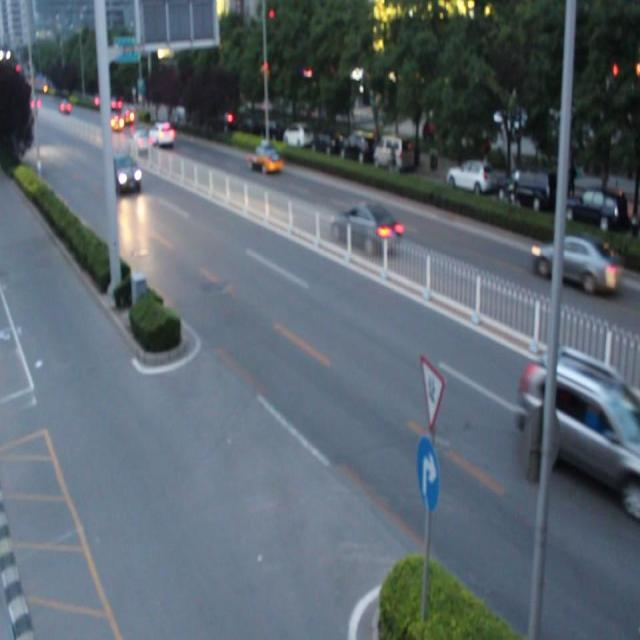car: (522, 349, 640, 496), (533, 238, 617, 291), (330, 204, 400, 252), (109, 153, 142, 191), (248, 142, 284, 176)
